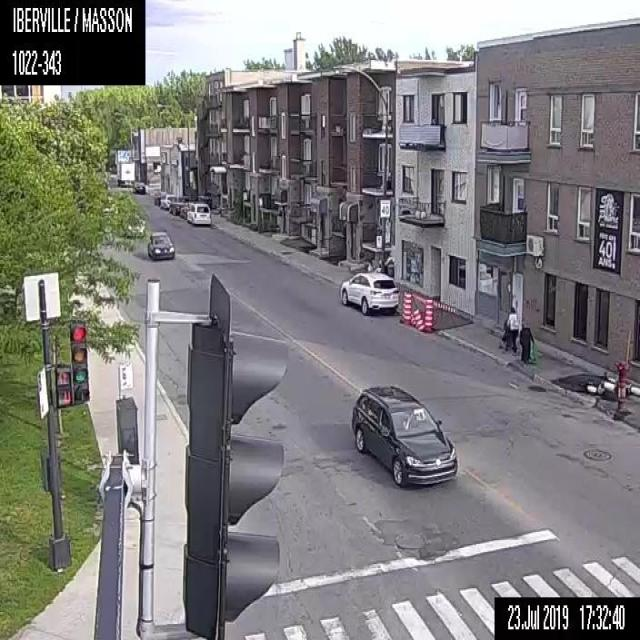construction: (551, 360, 631, 399), (399, 290, 412, 324), (423, 296, 436, 330), (411, 304, 424, 332)
pedestrian: (518, 318, 538, 366), (498, 306, 518, 352)
vehicle: (349, 381, 458, 487), (338, 269, 399, 315), (146, 229, 176, 260), (118, 210, 144, 239), (185, 201, 211, 224), (116, 160, 135, 187), (168, 196, 189, 215), (160, 193, 174, 209), (152, 190, 165, 205), (131, 180, 145, 193)
